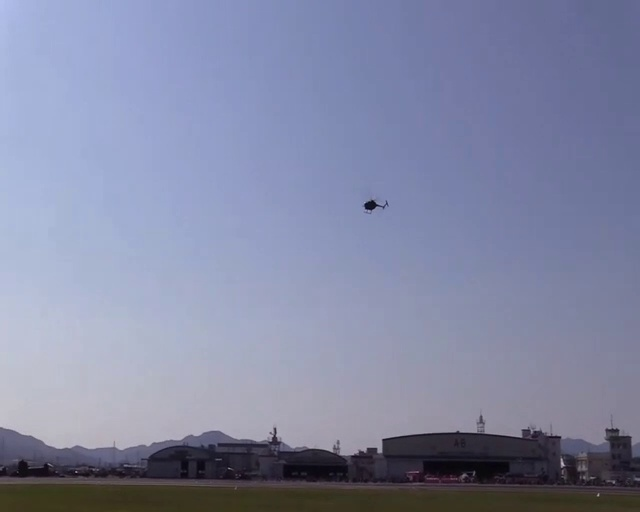HELICOPTER: (362, 197, 389, 213)
